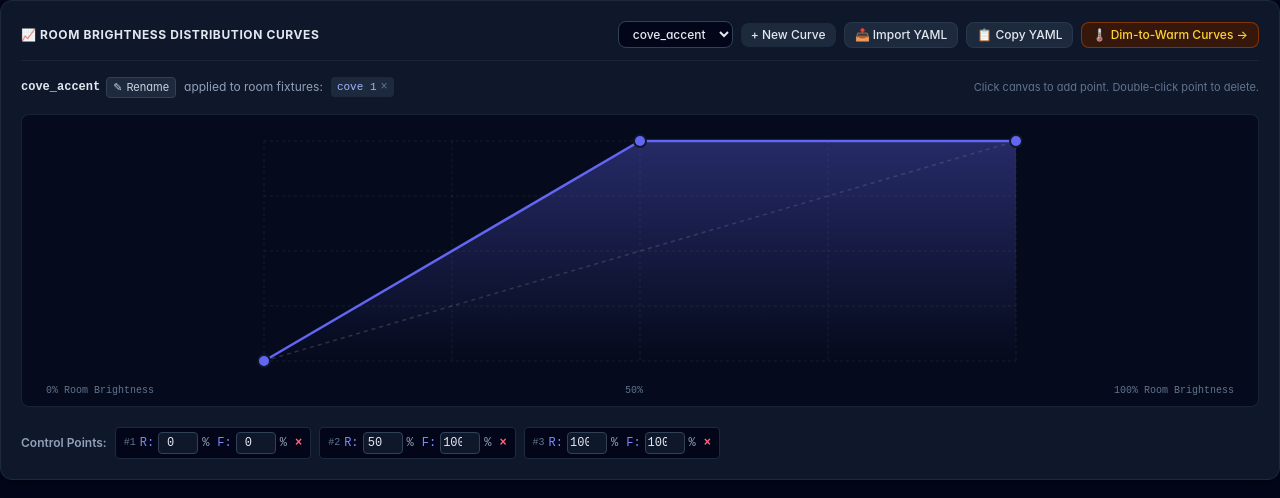
CurveEditor.vue › clicking rename button displays inline editing input pre-filled with curve name
The width and height of the screenshot is (1280, 498).
Click the button "✎ Rename" at (141, 87), box [106, 77, 176, 98]
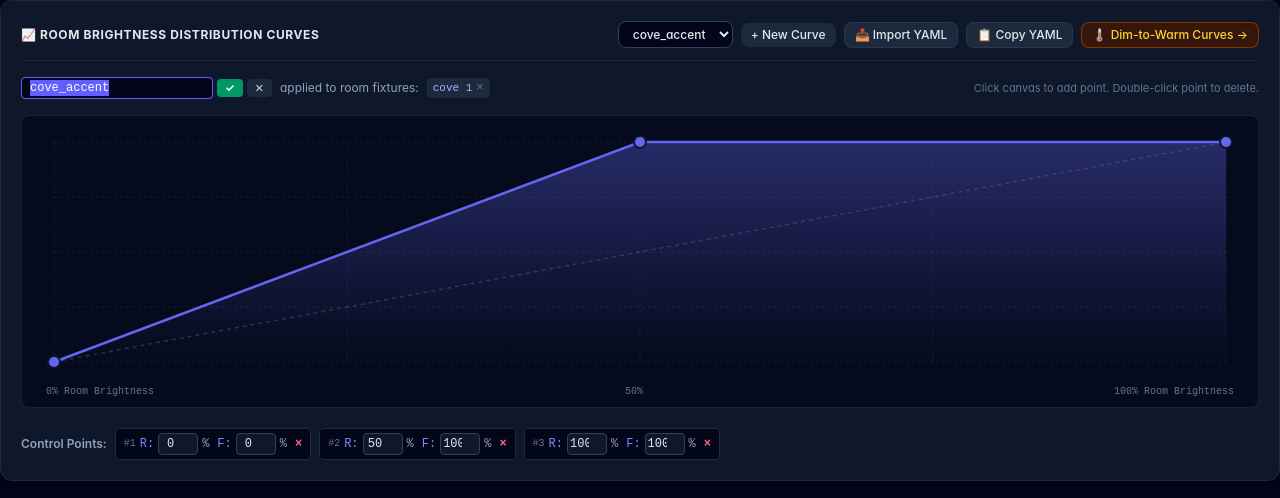
Expected: the field with placeholder "Curve name" holds "cove_accent", [21, 77, 213, 99]
Expected: the button titled "Save new name" is shown, [217, 79, 243, 97]
Expected: the button titled "Cancel renaming" is shown, [247, 79, 272, 97]
